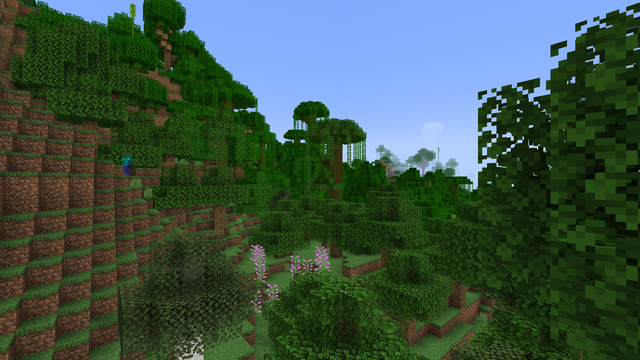slimes: (236, 218, 241, 222)
zombies: (122, 152, 131, 175)
